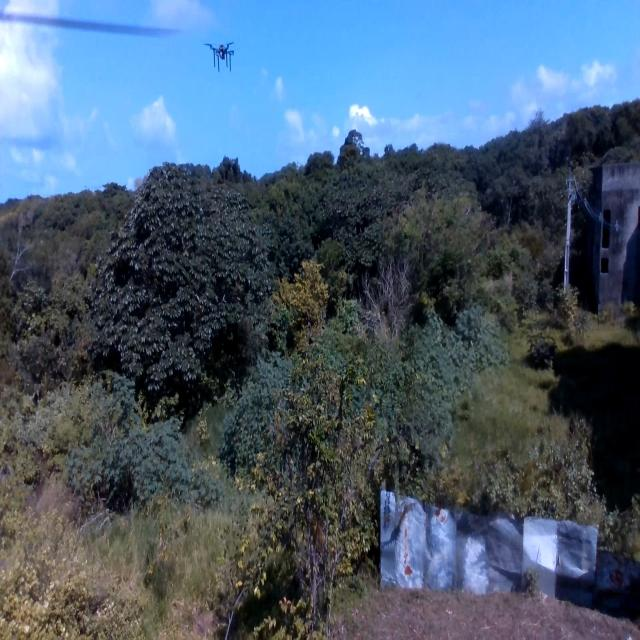-uav-: (204, 31, 238, 77)
